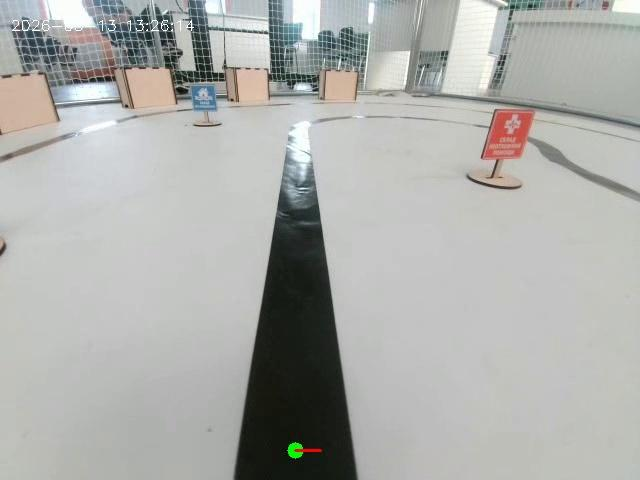flood: (173, 61, 235, 151)
medical: (476, 88, 546, 208)
